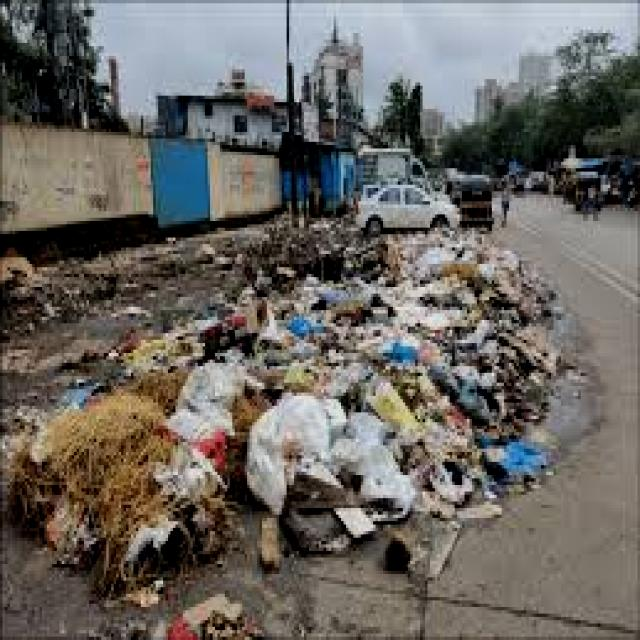garbage: (0, 231, 552, 600)
